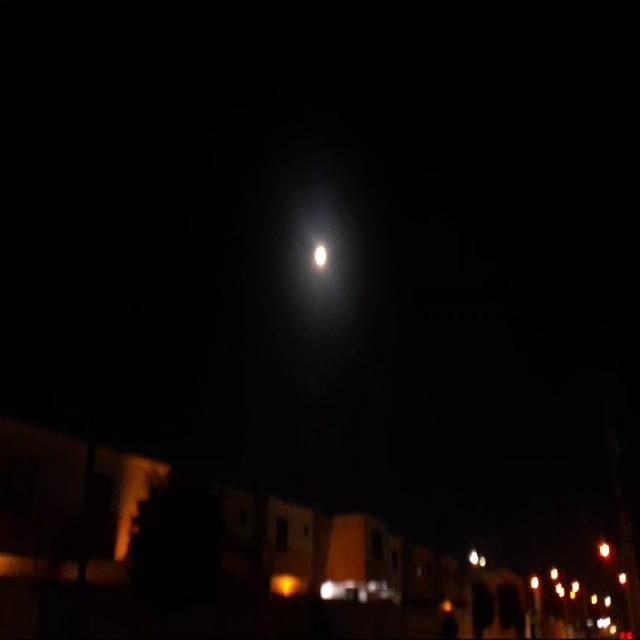moon: (312, 240, 330, 274)
